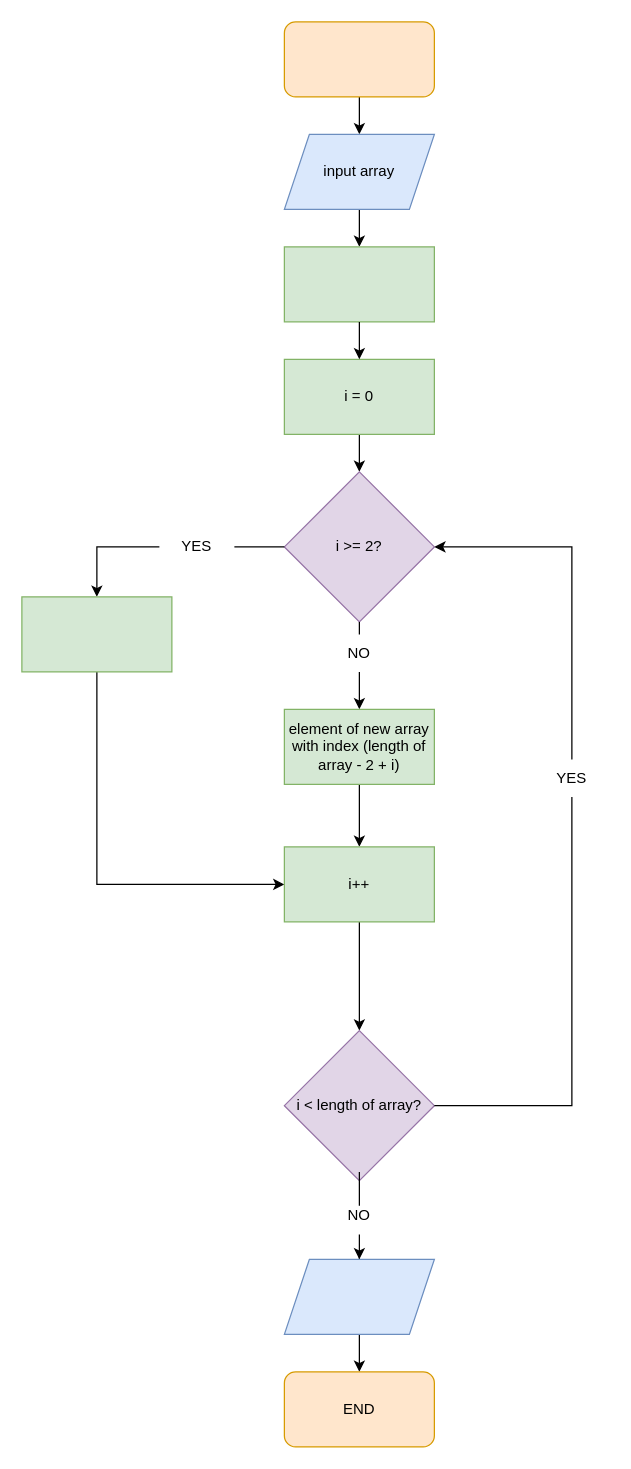
Image size: 631x1469. Some labels were removed from this diagram. Here are the shapes that lost their labels. From the top down, the centre of each, then its label:
the point at 358,59: START
the point at 358,284: create new array with length of given array
the point at 96,634: element of new array with index i-2 = element of given array with index i
the point at 358,1296: output new array
